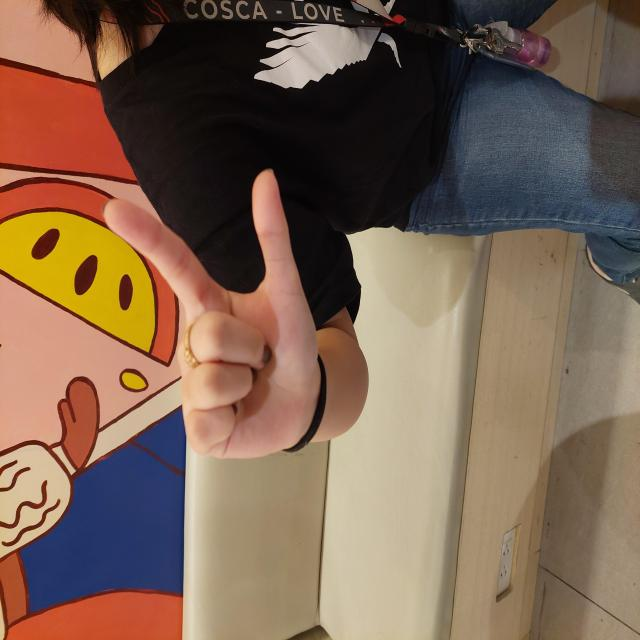L: (178, 101, 474, 319)
